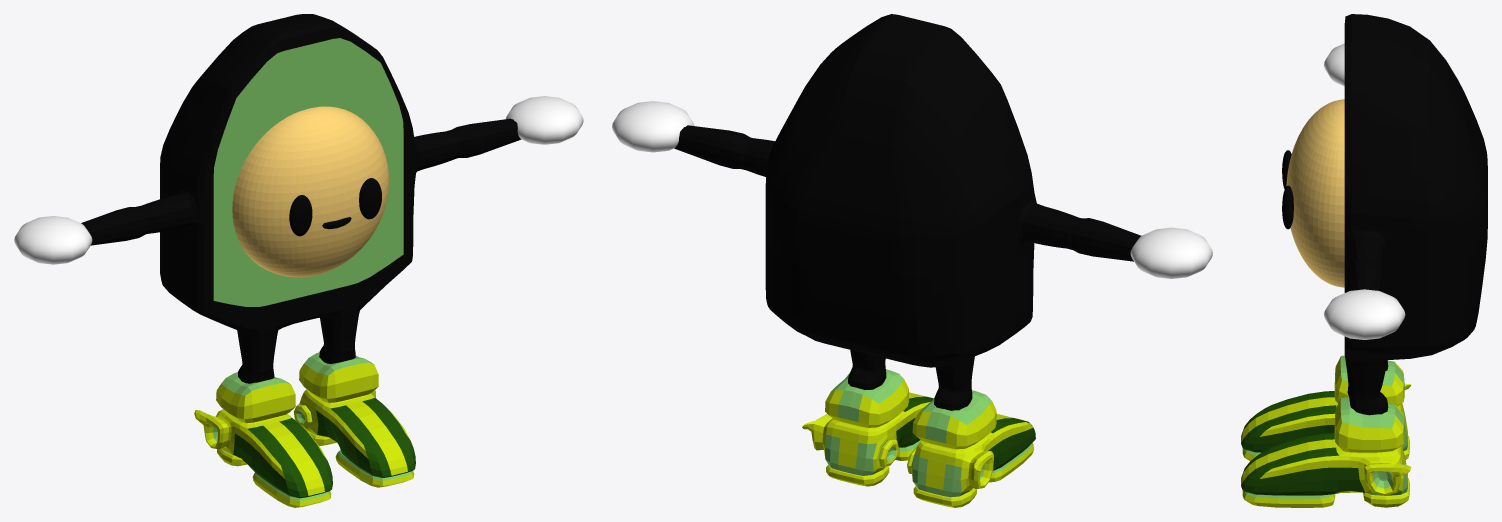
Rendered from Pal.fbx.
3 views of the same model, side by side, from view 1: azimuth 30°, elevation 25°; view 2: azimuth 150°, elevation 25°; view 3: azimuth 270°, elevation 25° (orthographic). The views are drawn at different scales.
Visible parts, largest first — view 1: Pal El aguacate; view 2: Pal El aguacate; view 3: Pal El aguacate.
Boxes of the visible parts, x1=… form: Pal El aguacate: x1=14, y1=14, x2=583, y2=507; Pal El aguacate: x1=612, y1=14, x2=1212, y2=507; Pal El aguacate: x1=1241, y1=14, x2=1487, y2=507.
Size of the model in its own units: 245 by 182 by 89.99.
